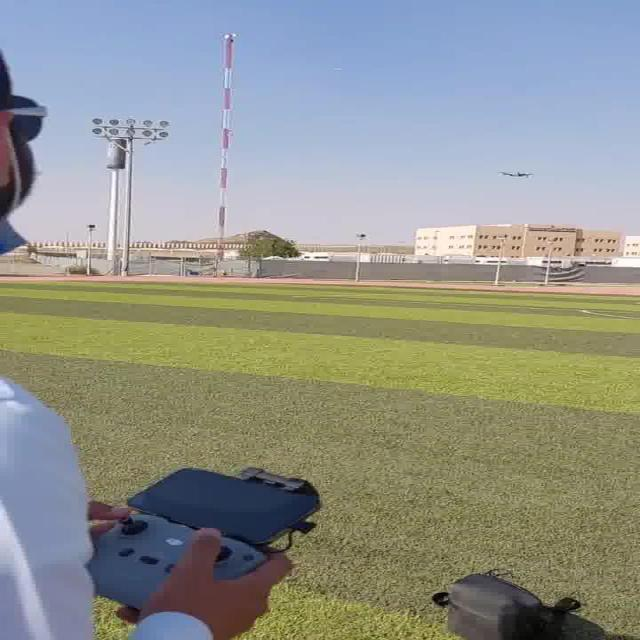drone: (491, 162, 545, 180)
